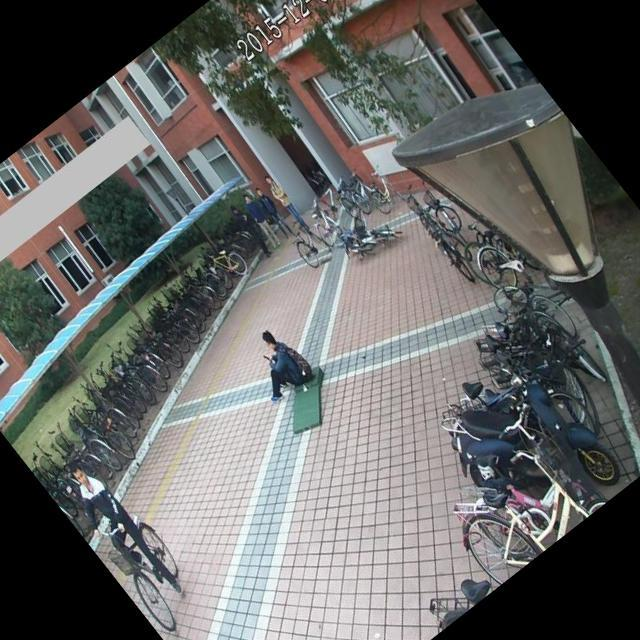person: (46, 448, 190, 614), (230, 318, 316, 409), (258, 168, 320, 240), (220, 194, 275, 260), (234, 188, 288, 252), (247, 180, 301, 242)
